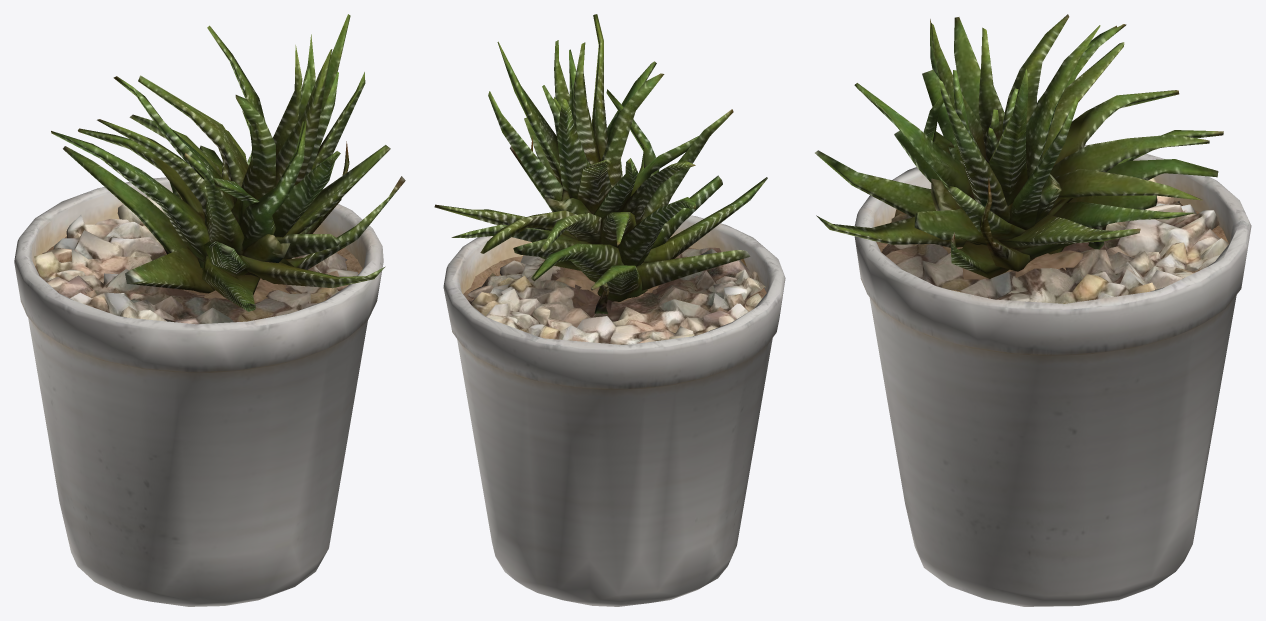
The model's file is potted_plant_04.fbx.
3 renders of one model, left to right at view 1: azimuth 30°, elevation 25°; view 2: azimuth 150°, elevation 25°; view 3: azimuth 270°, elevation 25°, orthographic. The views are drawn at different scales.
Parts seen in each view (by area): view 1: potted_plant_04_LOD0; view 2: potted_plant_04_LOD0; view 3: potted_plant_04_LOD0.
Part boxes in pixels (x1,y1,x2,y2): potted_plant_04_LOD0: [14, 14, 405, 606]; potted_plant_04_LOD0: [434, 14, 785, 606]; potted_plant_04_LOD0: [815, 14, 1251, 606].
Size of what is drawn, in the model's own units: 16.8 by 26.74 by 18.46.
1 material, 1 textured.
